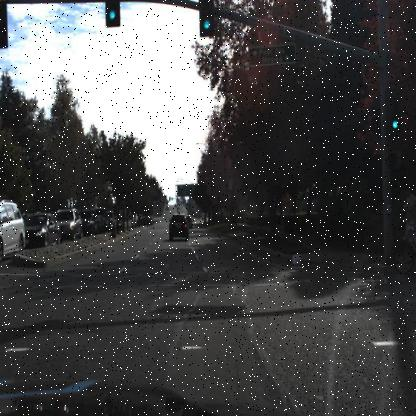car: (22, 207, 59, 252), (0, 198, 25, 262), (23, 213, 61, 250), (60, 208, 84, 243), (167, 213, 189, 242), (81, 209, 99, 238)
trafficLight-Green: (200, 0, 214, 36), (106, 0, 119, 26)
